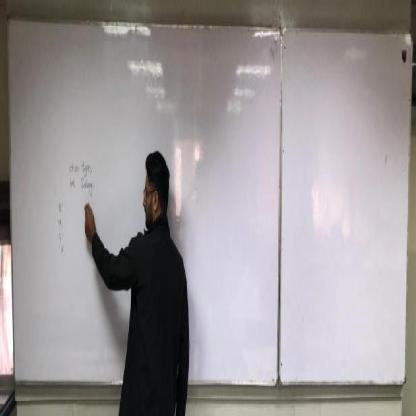Handwritten text: (67, 148, 95, 203), (55, 199, 62, 217), (57, 216, 64, 232), (58, 231, 65, 244), (58, 244, 65, 255)
Lecturer: (115, 146, 191, 390)
Whiteboard: (3, 14, 282, 391)
